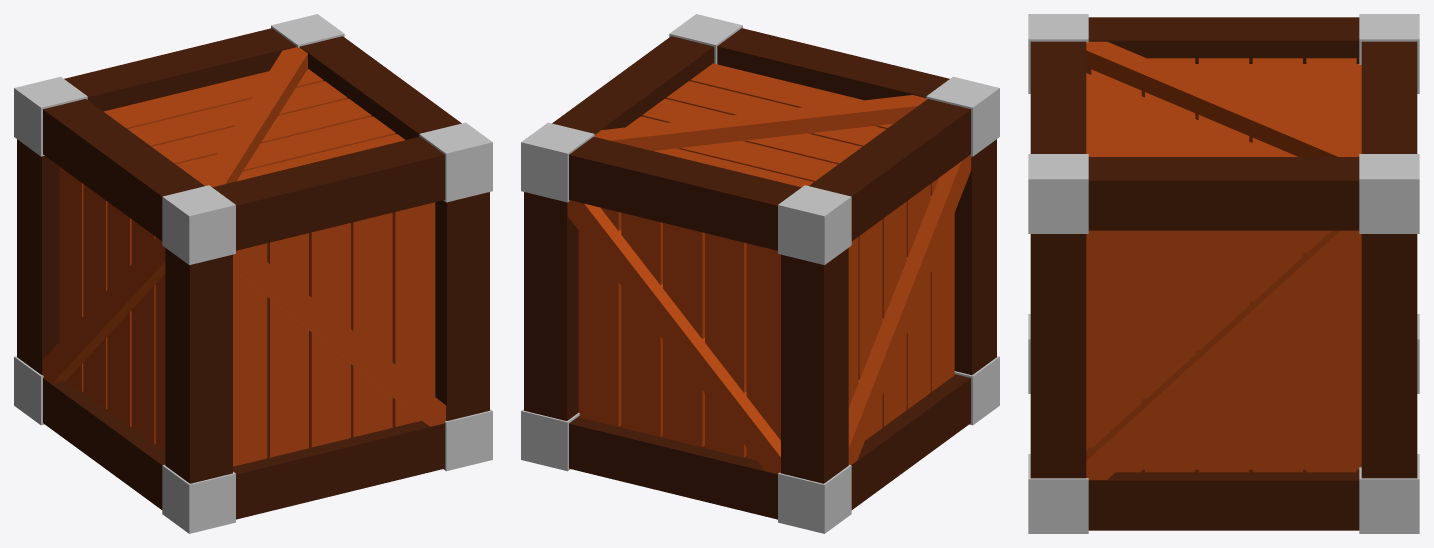
Rendered from Crate.obj.
The picture shows the model from 3 angles, left to right: view 1: azimuth 30°, elevation 25°; view 2: azimuth 150°, elevation 25°; view 3: azimuth 270°, elevation 25°; orthographic projection. The views are drawn at different scales.
Parts seen in each view (by area): view 1: Cube.132, Cube.126, Cube.131, Cube.128, Cube.124, Cube.130, Cube.135, Cube.144, Cube.120, Cube.136, Cube.137, Cube.139 (+17 smaller); view 2: Cube.130, Cube.135, Cube.133, Cube.129, Cube.124, Cube.140, Cube.132, Cube.126, Cube.145, Cube.143, Cube.120, Cube.123 (+17 smaller); view 3: Cube.125, Cube.127, Cube.144, Cube.142, Cube.131, Cube.133, Cube.136, Cube.137, Cube.139, Cube.134, Cube.124, Cube.143 (+9 smaller).
Part boxes in pixels (x1=…): Cube.132: x1=165, y1=248, x2=232, y2=483; Cube.126: x1=212, y1=136, x2=444, y2=250; Cube.131: x1=435, y1=192, x2=489, y2=420; Cube.128: x1=233, y1=420, x2=444, y2=519; Cube.124: x1=43, y1=99, x2=204, y2=241; Cube.130: x1=17, y1=139, x2=59, y2=375; Cube.135: x1=64, y1=28, x2=296, y2=111; Cube.144: x1=59, y1=69, x2=323, y2=391; Cube.120: x1=392, y1=202, x2=434, y2=426; Cube.136: x1=107, y1=98, x2=371, y2=426; Cube.137: x1=83, y1=81, x2=347, y2=409; Cube.139: x1=131, y1=116, x2=395, y2=444; Cube.130: x1=781, y1=248, x2=848, y2=483; Cube.135: x1=569, y1=136, x2=801, y2=250; Cube.133: x1=524, y1=192, x2=578, y2=420; Cube.129: x1=569, y1=416, x2=777, y2=519; Cube.124: x1=809, y1=99, x2=970, y2=241; Cube.140: x1=567, y1=200, x2=780, y2=473; Cube.132: x1=954, y1=139, x2=996, y2=375; Cube.126: x1=717, y1=28, x2=949, y2=100; Cube.145: x1=848, y1=155, x2=971, y2=464; Cube.143: x1=594, y1=95, x2=926, y2=150; Cube.120: x1=579, y1=207, x2=621, y2=426; Cube.123: x1=851, y1=374, x2=970, y2=509; Cube.125: x1=1088, y1=157, x2=1359, y2=230; Cube.127: x1=1088, y1=469, x2=1359, y2=530; Cube.144: x1=1306, y1=58, x2=1356, y2=472; Cube.142: x1=1091, y1=69, x2=1141, y2=472; Cube.131: x1=1030, y1=234, x2=1086, y2=478; Cube.133: x1=1361, y1=234, x2=1417, y2=478; Cube.136: x1=1198, y1=58, x2=1249, y2=472; Cube.137: x1=1252, y1=58, x2=1302, y2=472; Cube.139: x1=1145, y1=58, x2=1195, y2=472; Cube.134: x1=1086, y1=230, x2=1361, y2=479; Cube.124: x1=1088, y1=17, x2=1359, y2=63; Cube.143: x1=1086, y1=41, x2=1361, y2=156.
Size of the model in its own units: 4.73 by 4.73 by 4.73.
